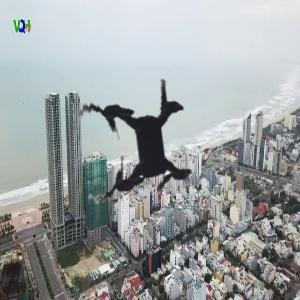drone: (30, 37, 252, 259)
